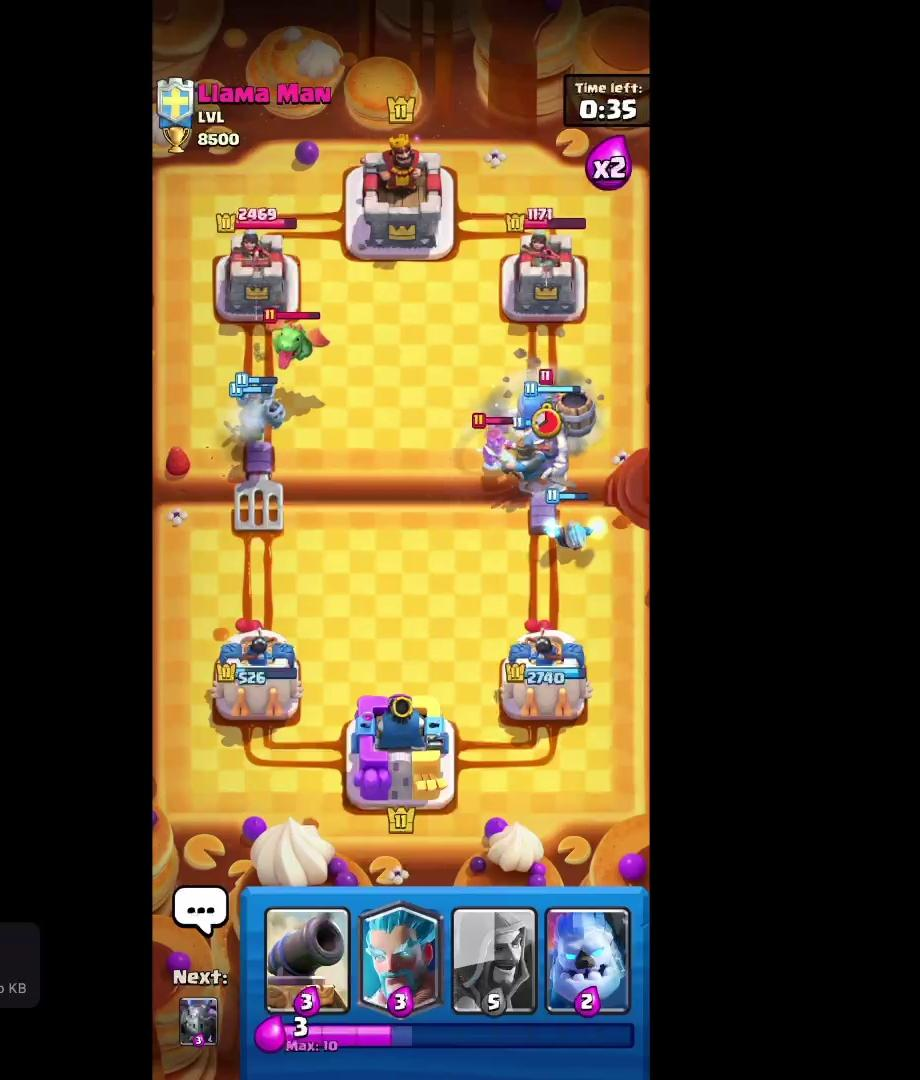Baby Dragon: (261, 306, 333, 371)
